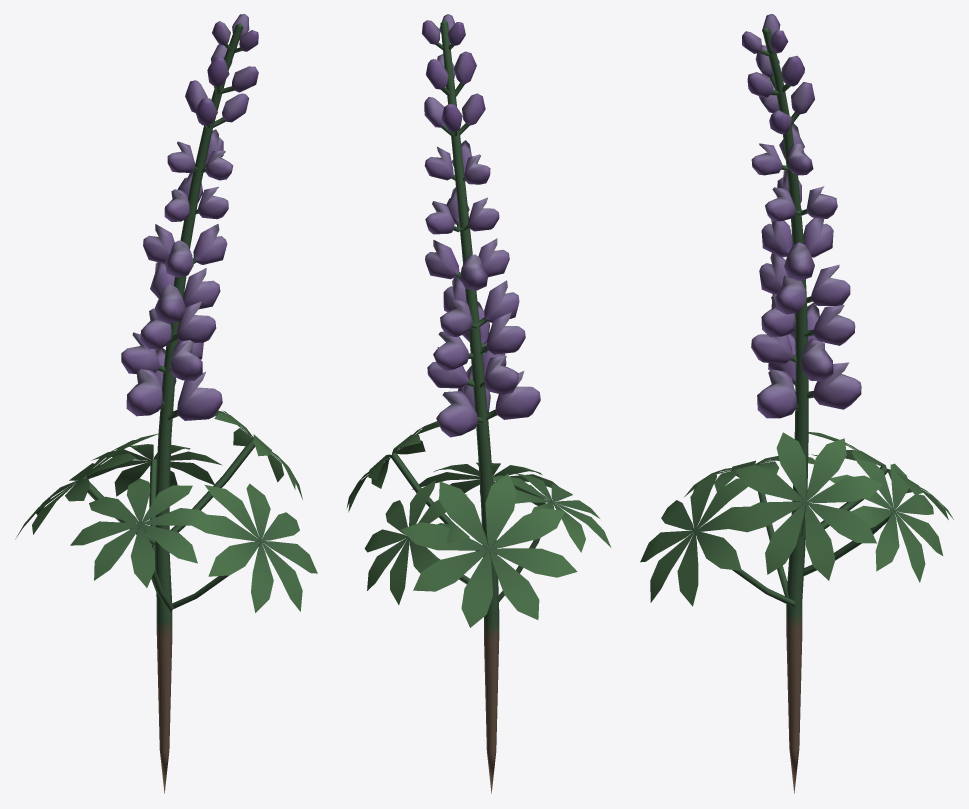
Rendered from plants-flowers-lupine_v1.fbx.
3 renders of one model, left to right at view 1: azimuth 30°, elevation 25°; view 2: azimuth 150°, elevation 25°; view 3: azimuth 270°, elevation 25°, orthographic. The views are drawn at different scales.
Parts seen in each view (by area): view 1: Lupine_v1; view 2: Lupine_v1; view 3: Lupine_v1.
Boxes of the visible parts, bbox=[...] form: Lupine_v1: bbox=[15, 14, 317, 793]; Lupine_v1: bbox=[346, 14, 611, 793]; Lupine_v1: bbox=[640, 14, 953, 793].
Size of the model in its own units: 0.2926 by 0.9 by 0.3195.
